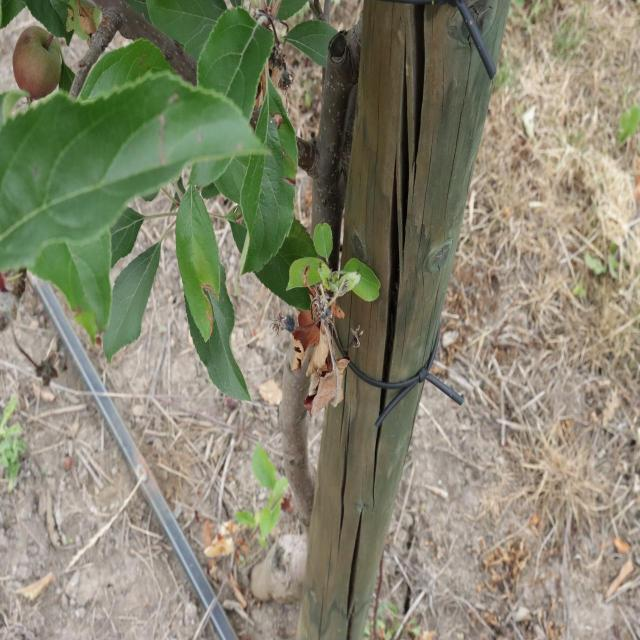-FireBlight-: (290, 293, 348, 413)
